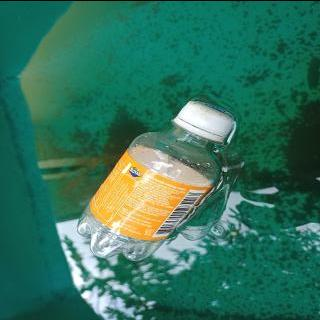bottle: (74, 97, 240, 263)
